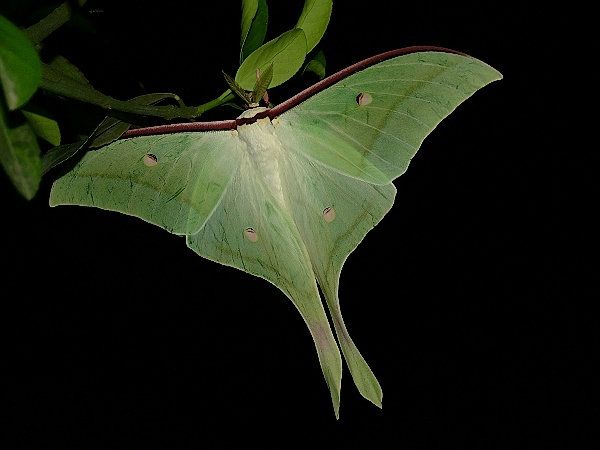feie: (53, 58, 492, 390)
